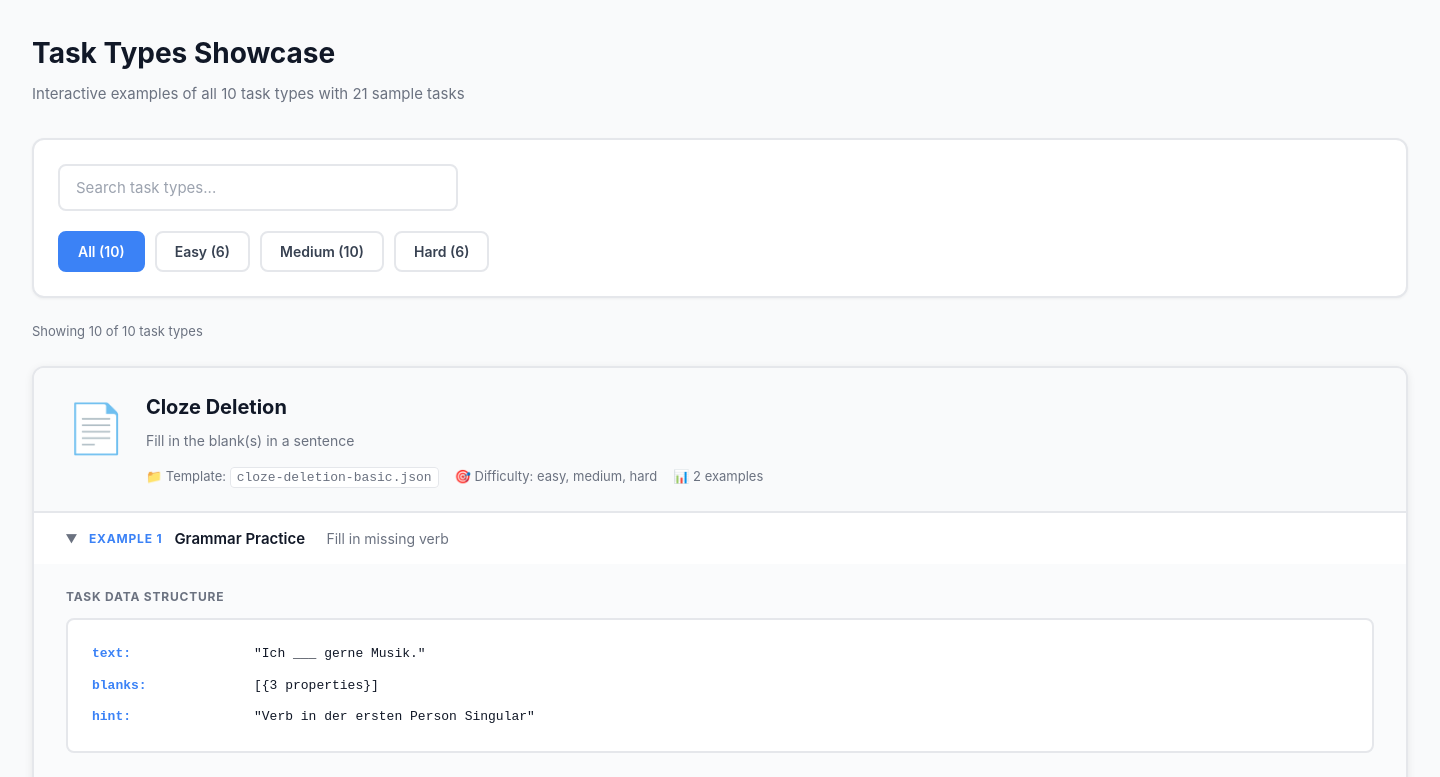
Test: TaskTypesShowcase › Search Functionality › should clear search when clear button is clicked
Type "flashcard" into the field with placeholder "Search task types..." at (258, 188), box x1=58 y1=164 x2=458 y2=211
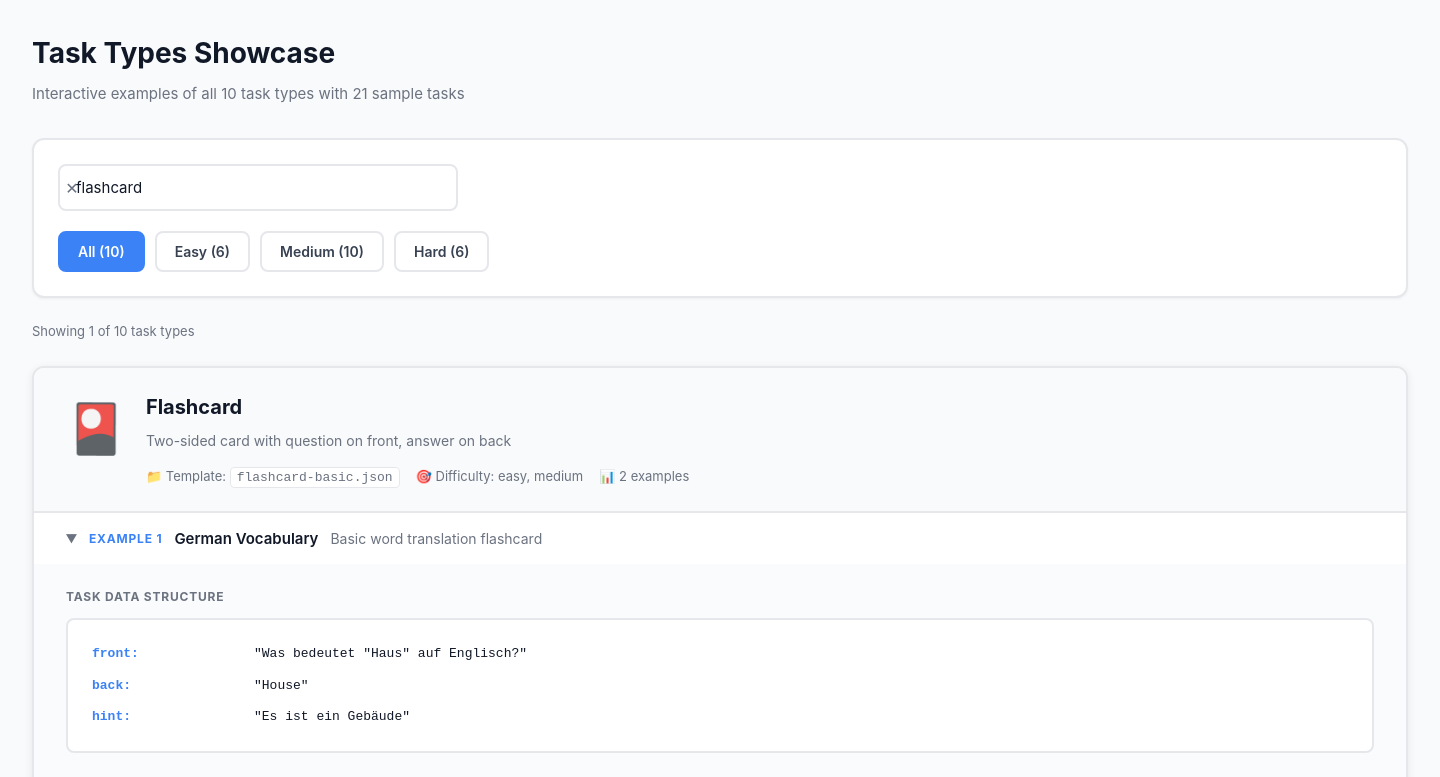
Click the button named "clear search" at (72, 188), box x1=58 y1=174 x2=86 y2=202
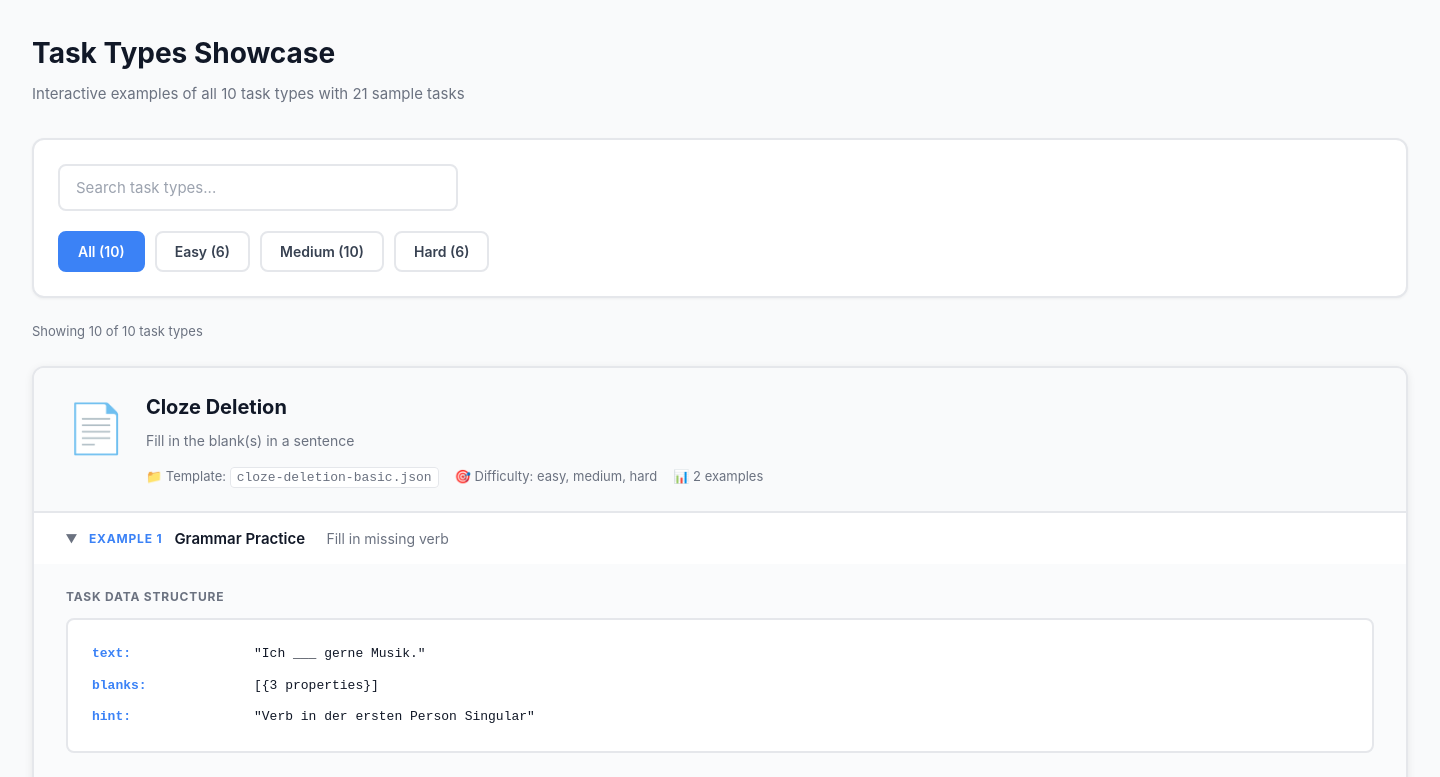
Check: the field with placeholder "Search task types..." is empty, box x1=58 y1=164 x2=458 y2=211
Check: the text "Showing 10 of 10 task types" is shown, box x1=32 y1=323 x2=203 y2=339
